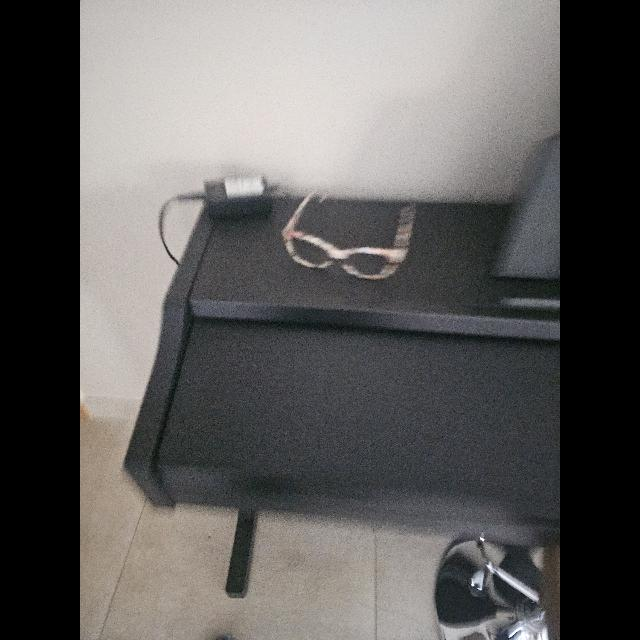glasses: (282, 192, 414, 280)
